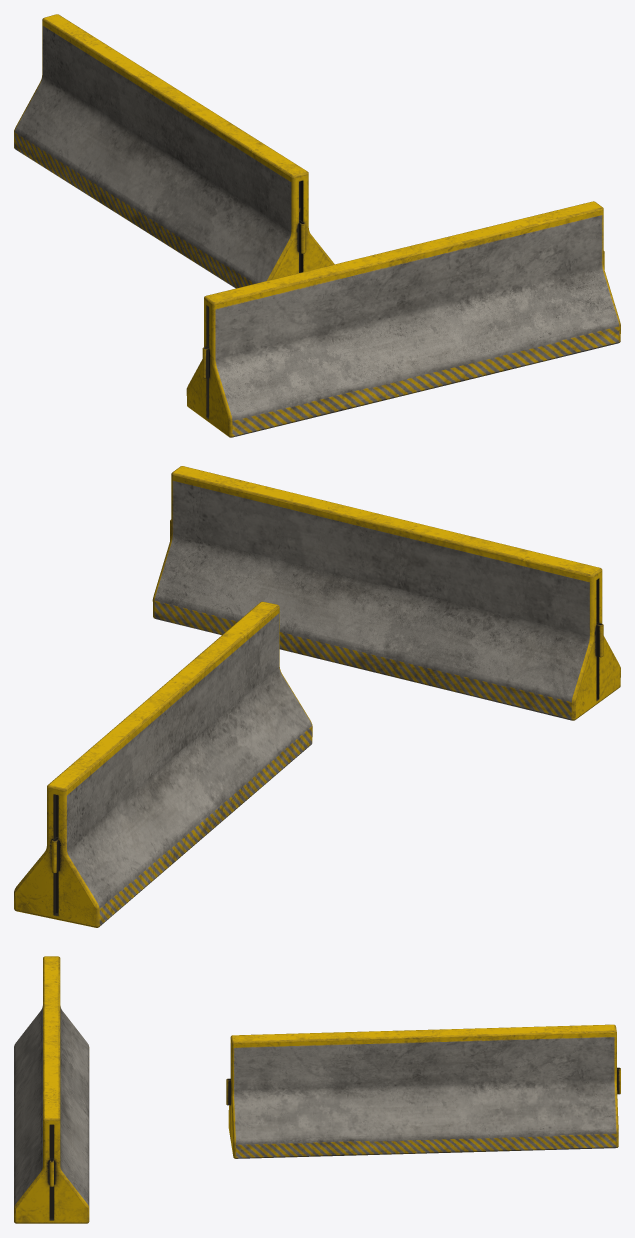
File: barrier.glb
3 renders of one model, top to bottom at view 1: azimuth 30°, elevation 25°; view 2: azimuth 150°, elevation 25°; view 3: azimuth 270°, elevation 25°, orthographic. The views are drawn at different scales.
Parts seen in each view (by area): view 1: Cube, Cube_1; view 2: Cube, Cube_1; view 3: Cube_1, Cube.
Part boxes in pixels (<box>): Cube: <box>186,201,620,437</box>; Cube_1: <box>14,14,334,288</box>; Cube: <box>152,466,620,720</box>; Cube_1: <box>14,601,312,927</box>; Cube_1: <box>226,1024,620,1158</box>; Cube: <box>14,956,89,1223</box>.
Size of the model in its own units: 2.56 by 0.7503 by 3.93.
Materials: 1 (1 with a texture image).
